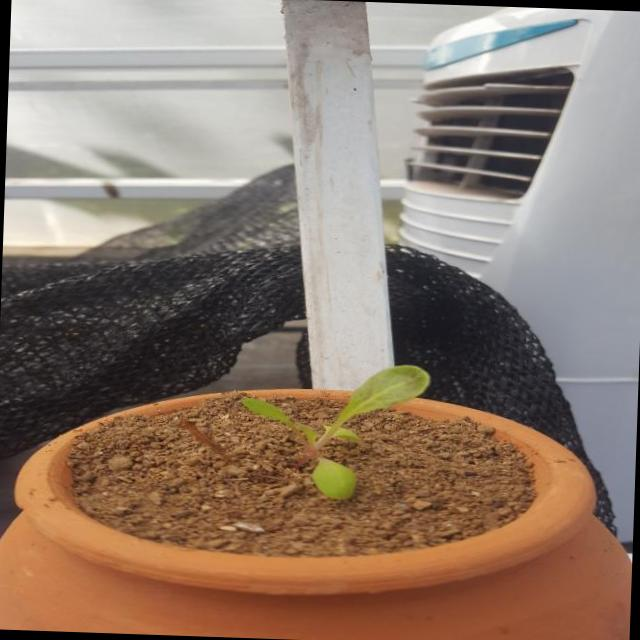Lettuce-Not-Ready-to-Harvest: (242, 364, 429, 499)
